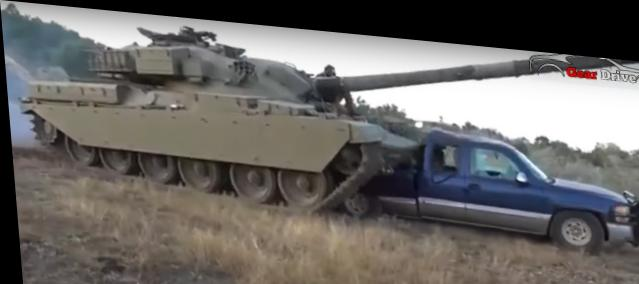tank: (35, 39, 379, 192)
